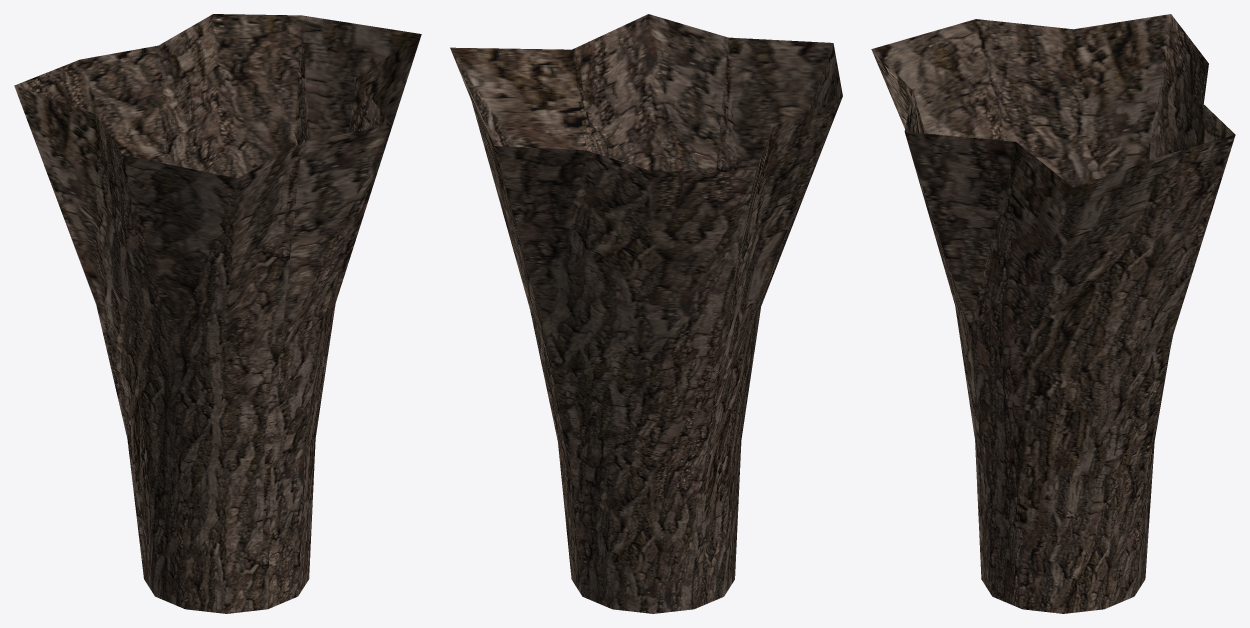
File: Down.fbx
3 views of the same model, side by side, from view 1: azimuth 30°, elevation 25°; view 2: azimuth 150°, elevation 25°; view 3: azimuth 270°, elevation 25° (orthographic).
Parts seen in each view (by area): view 1: Down; view 2: Down; view 3: Down.
Boxes of the visible parts, bbox=[...] form: Down: bbox=[14, 14, 421, 613]; Down: bbox=[450, 14, 842, 613]; Down: bbox=[871, 14, 1235, 613].
Bounding box in the file's own units: 1.85 × 2.42 × 1.64.
